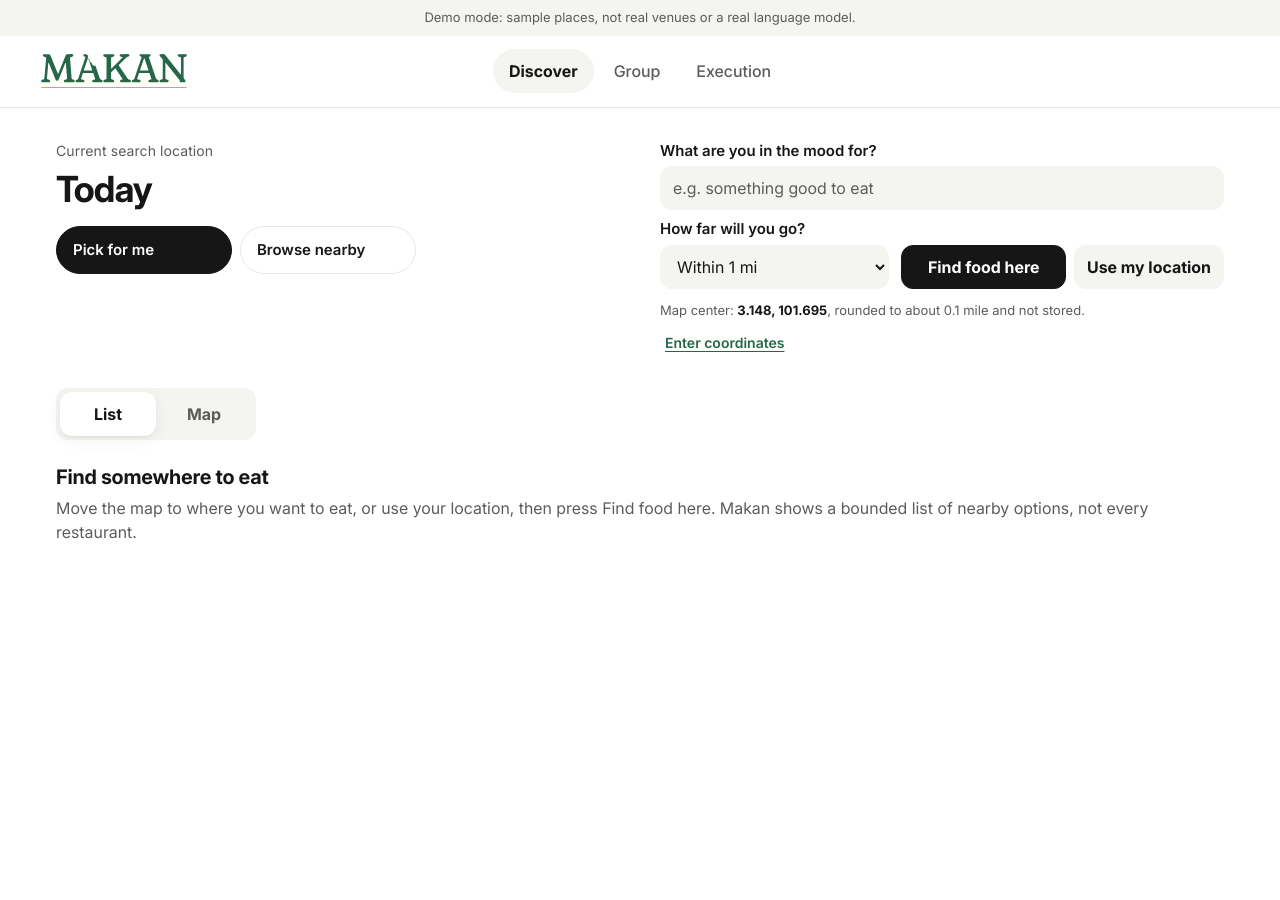
Test case: starting a group › will not start without a request, and says why
Click the button "Group": click(637, 71) left=598, top=49, right=676, bottom=93
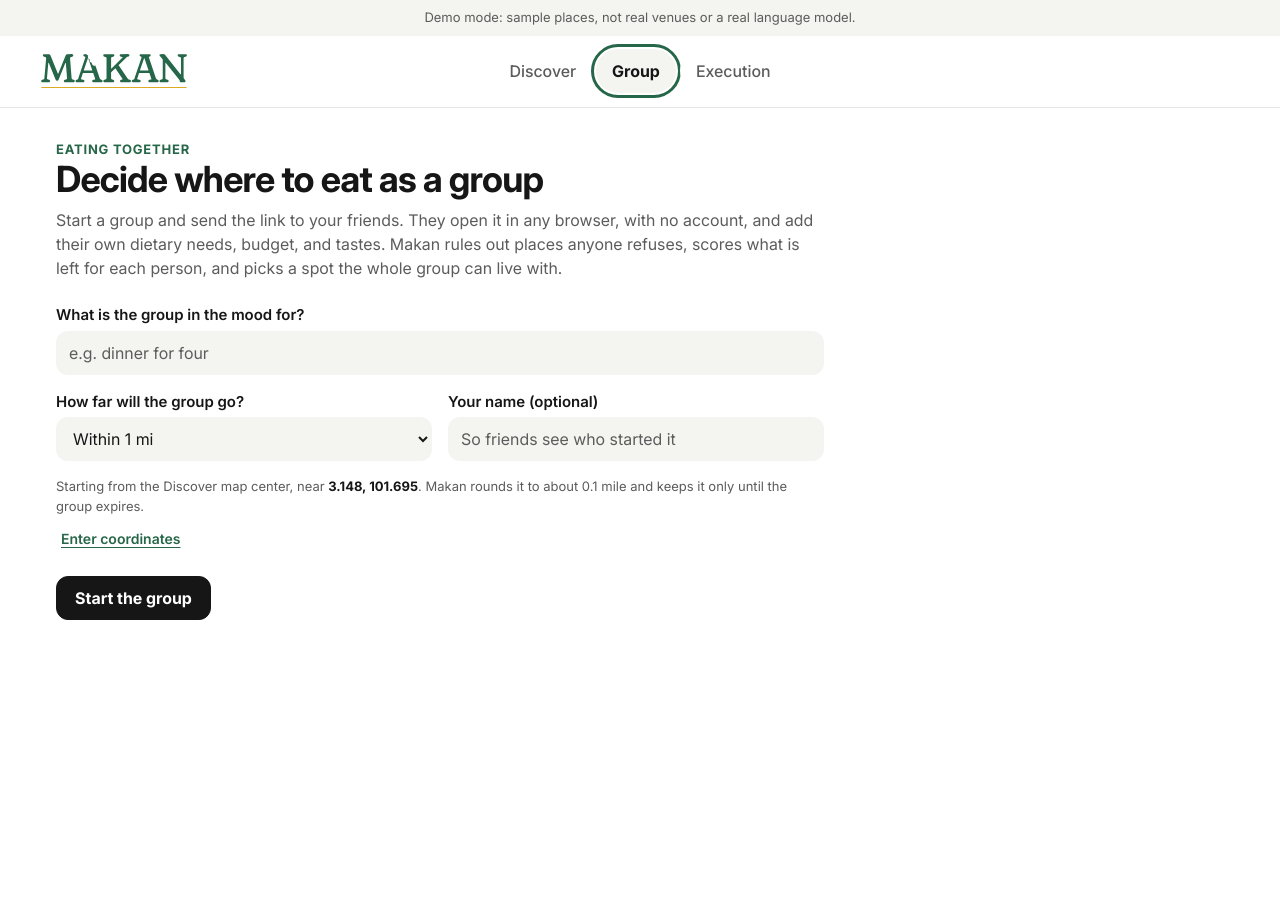
Click the button "Start the group": click(133, 598) left=56, top=576, right=211, bottom=620
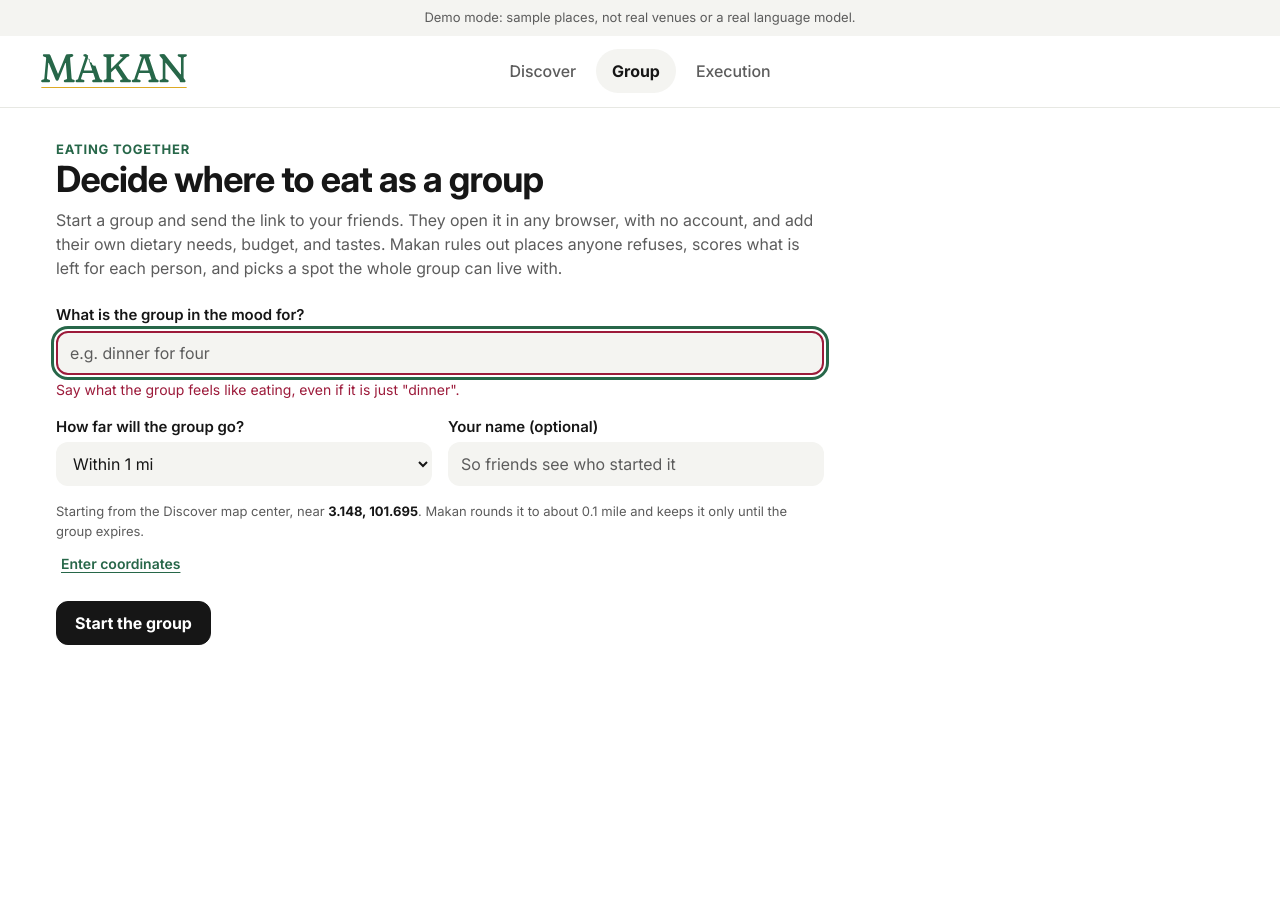
Now the text "Say what the group feels like eating" is shown, box left=56, top=381, right=460, bottom=398
